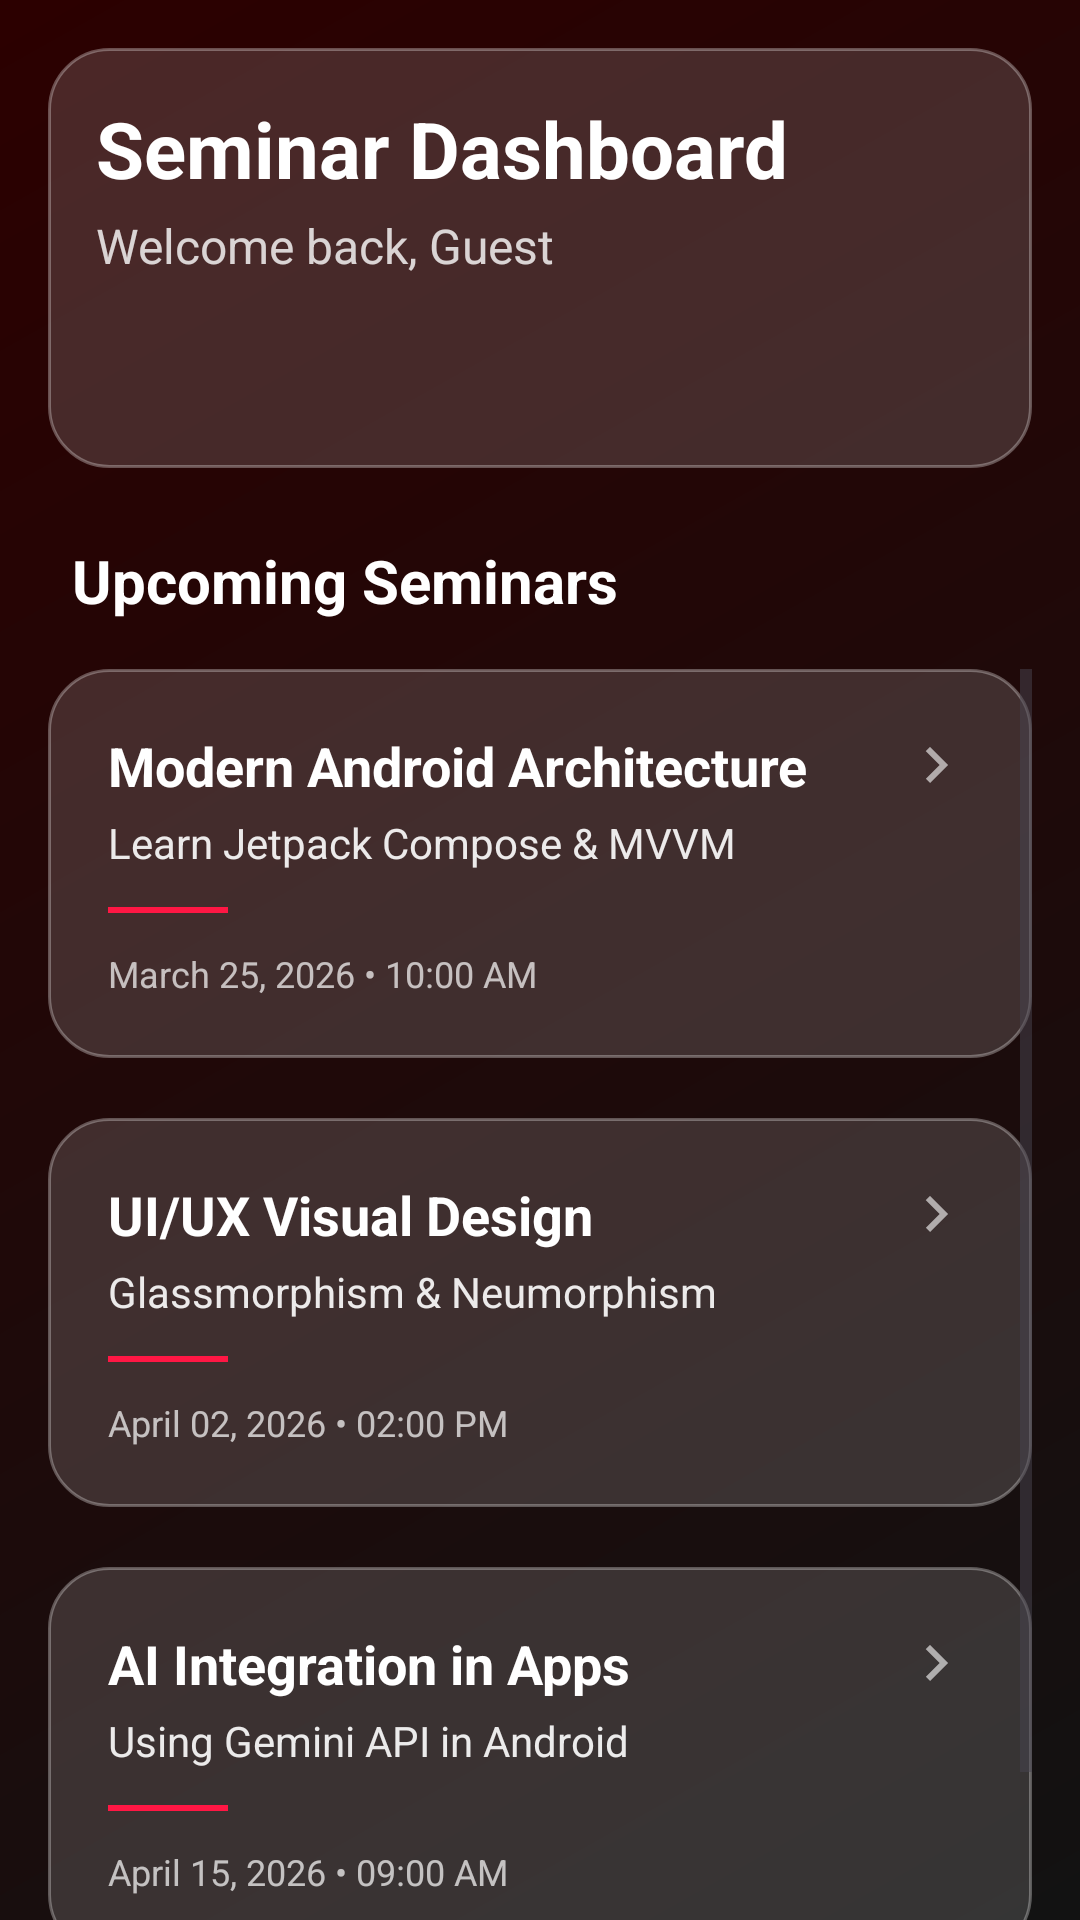

Named icons in this screenshot (1080*1920) and their centers, point (x, y):
arrow right: point (937, 765), point (937, 1214), point (937, 1663)
